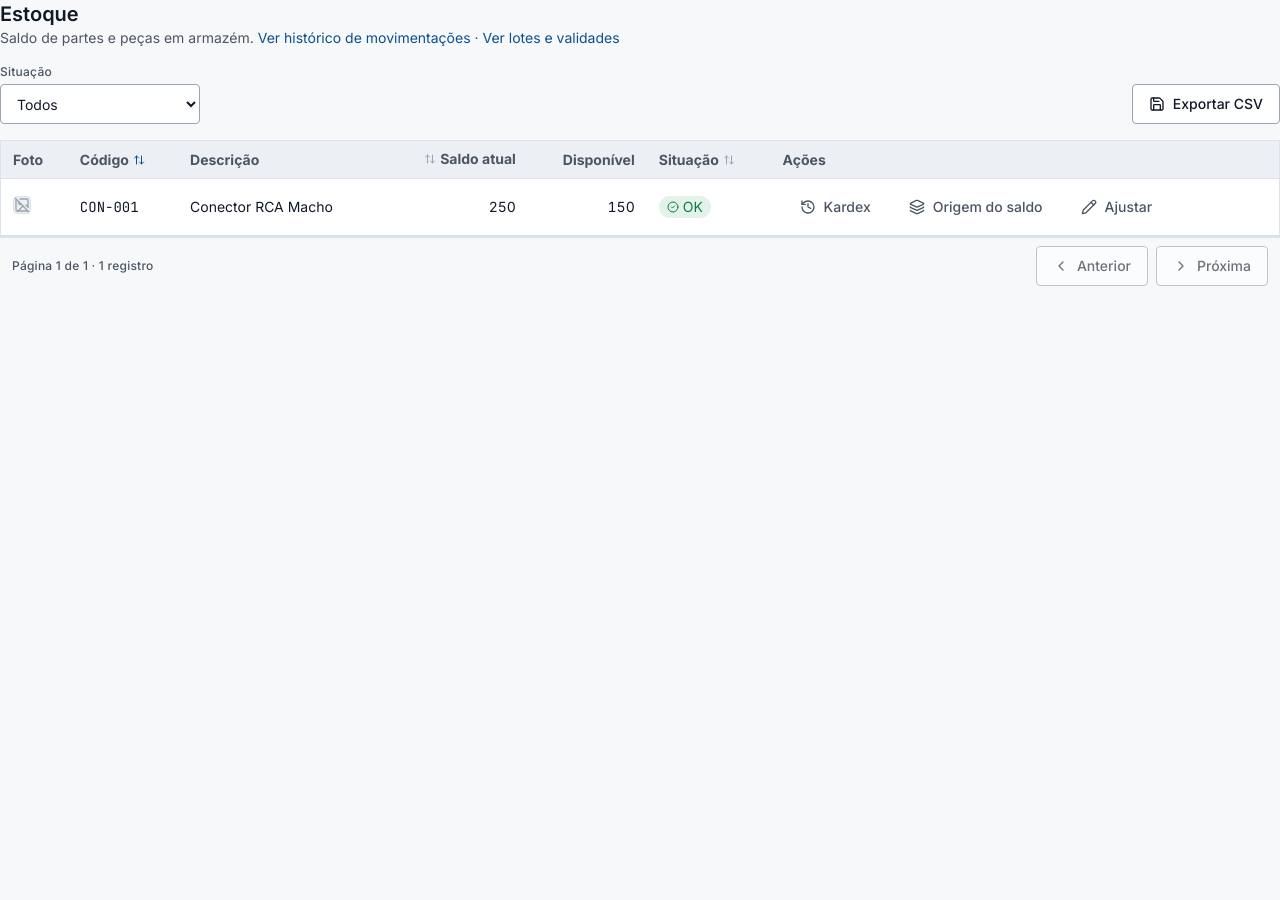
Test: Estoque › erro 409 no ajuste mostra alerta com o modal aberto
The image size is (1280, 900).
Expected: the text "CON-001" is shown, x1=80 y1=198 x2=139 y2=216
Click the button with aria-label "Ajustar CON-001".
click(1116, 207)  # box x1=1064 y1=187 x2=1169 y2=227
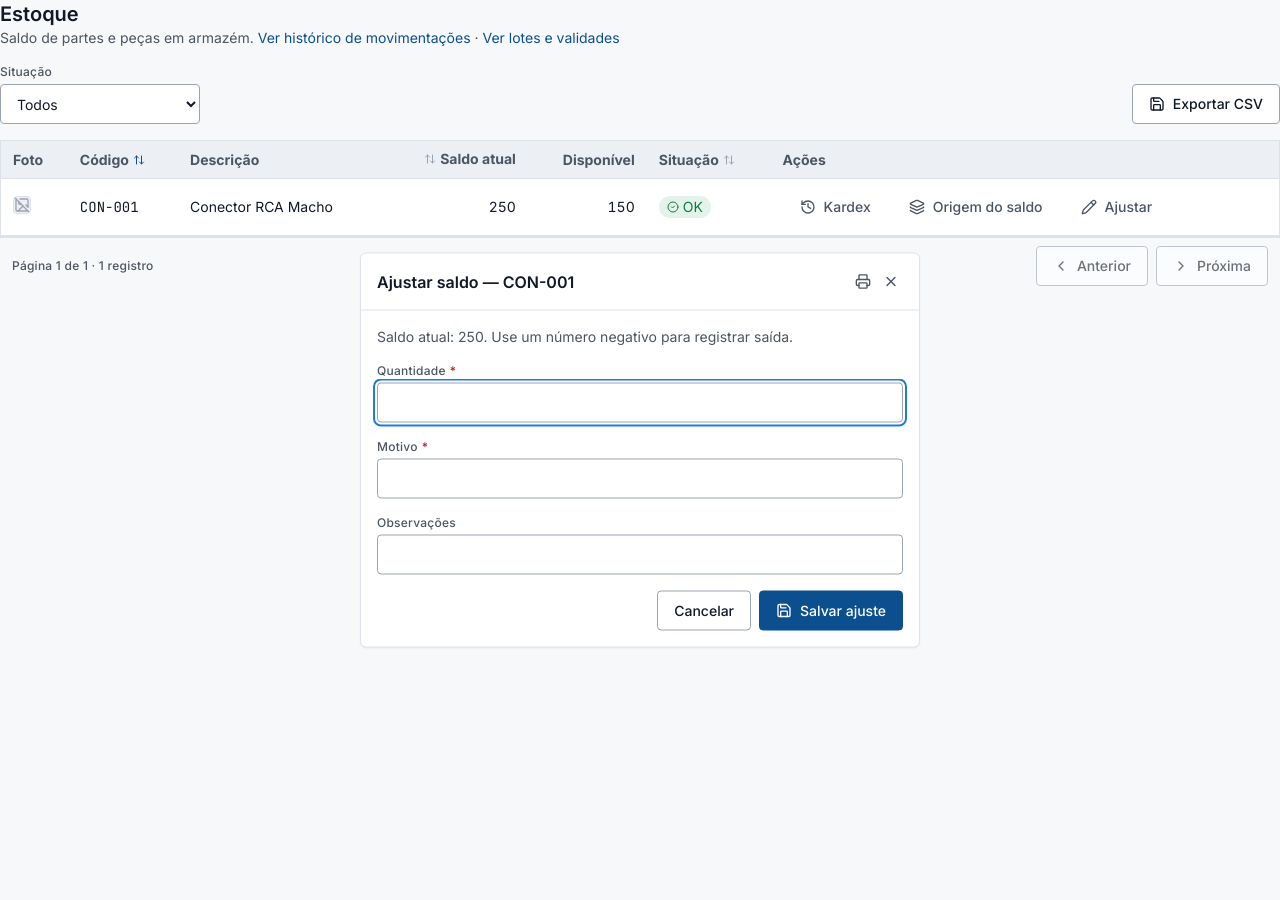
Type "-1000" into the field labelled "Quantidade*".
click(640, 402); type("-1000")  # box x1=377 y1=382 x2=903 y2=422
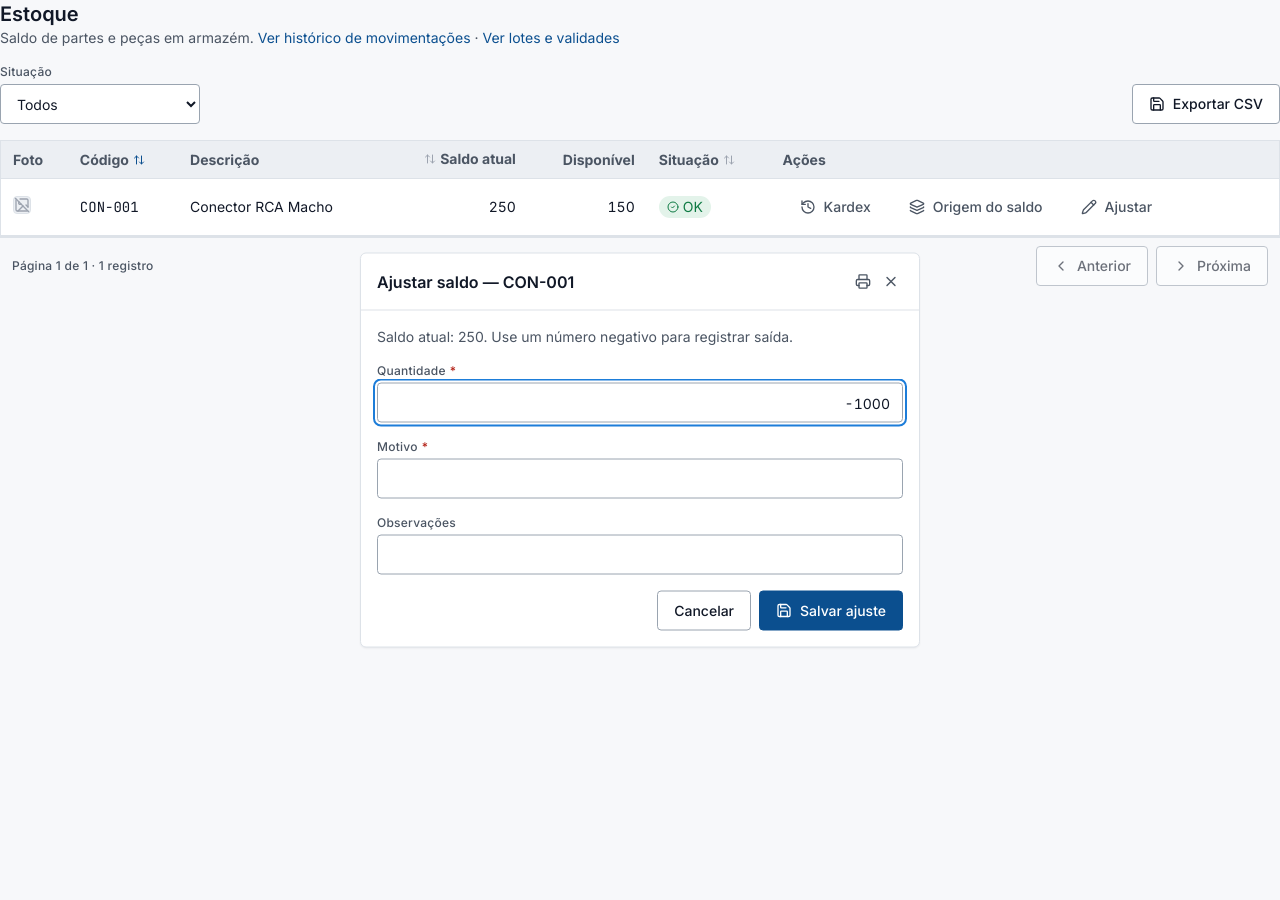
Type "Perda" into the field labelled "Motivo*".
click(640, 478); type("Perda")  # box x1=377 y1=458 x2=903 y2=498
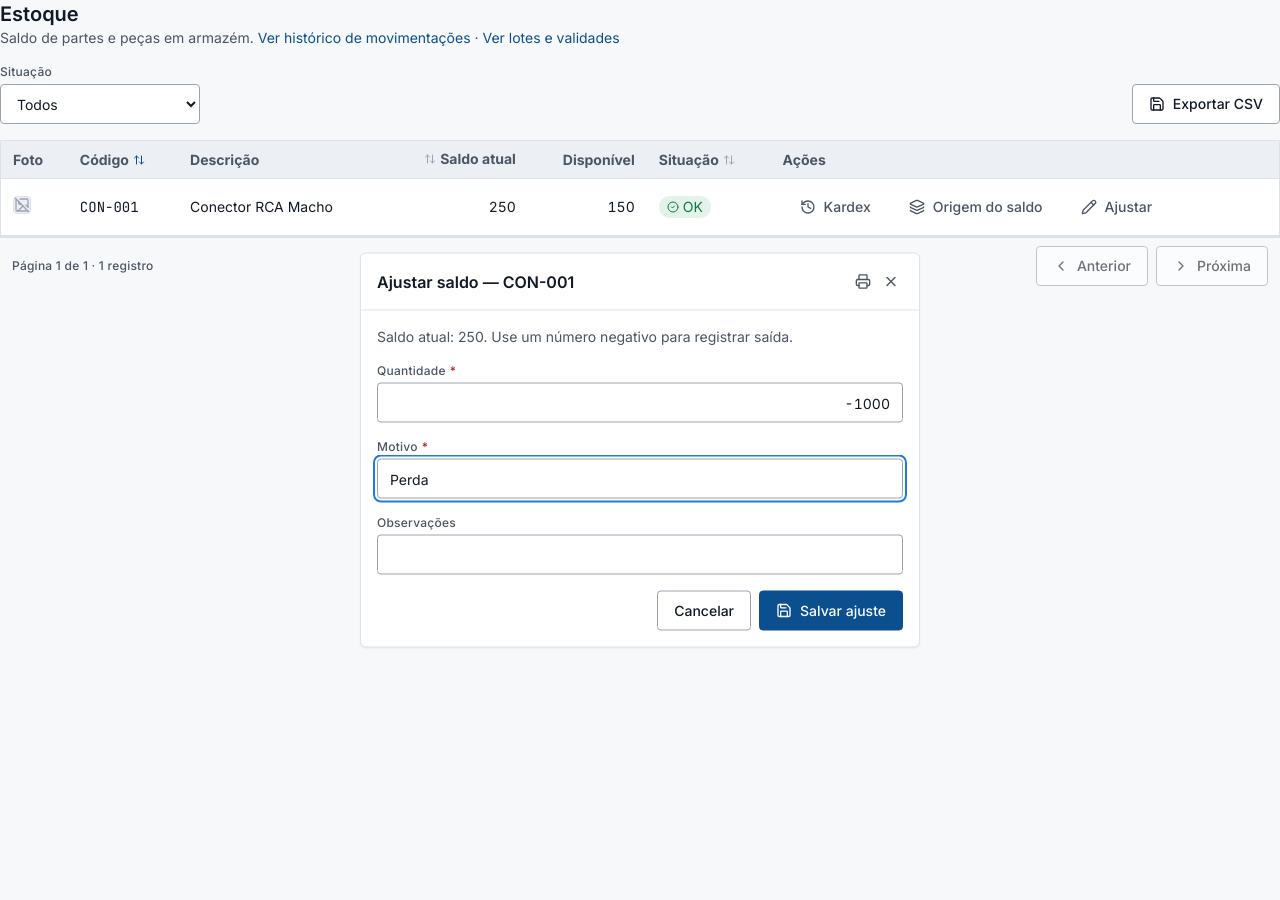
Click the button "Salvar ajuste".
click(831, 610)  # box x1=759 y1=590 x2=903 y2=630
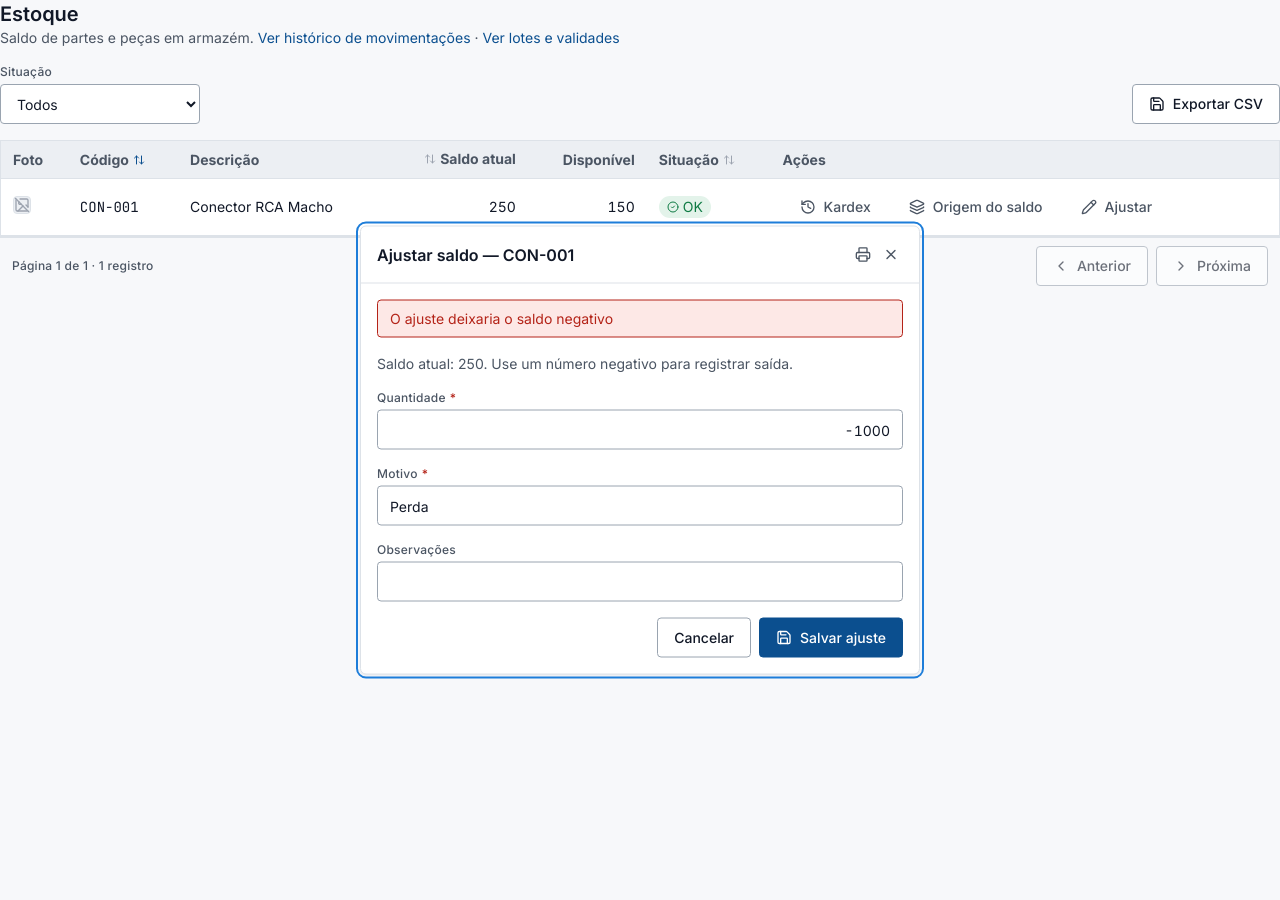
Now the dialog is shown, box x1=360 y1=226 x2=920 y2=674
Now the message shows "saldo negativo", box x1=390 y1=310 x2=613 y2=326
